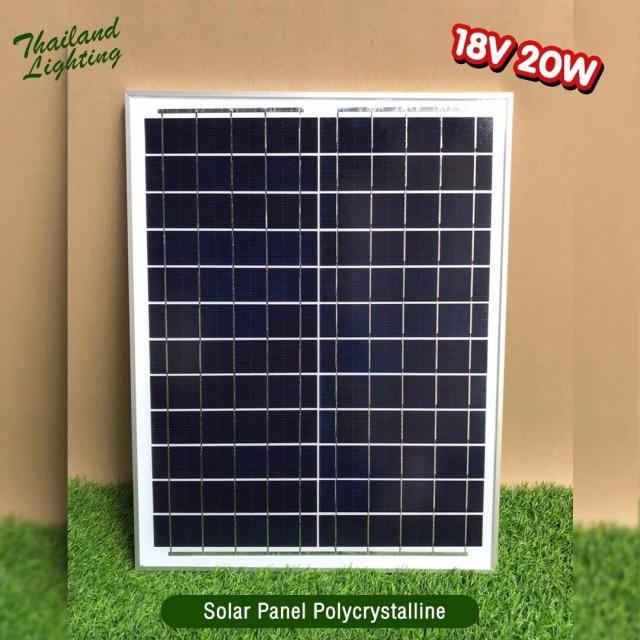no faulty: (128, 95, 504, 575)
